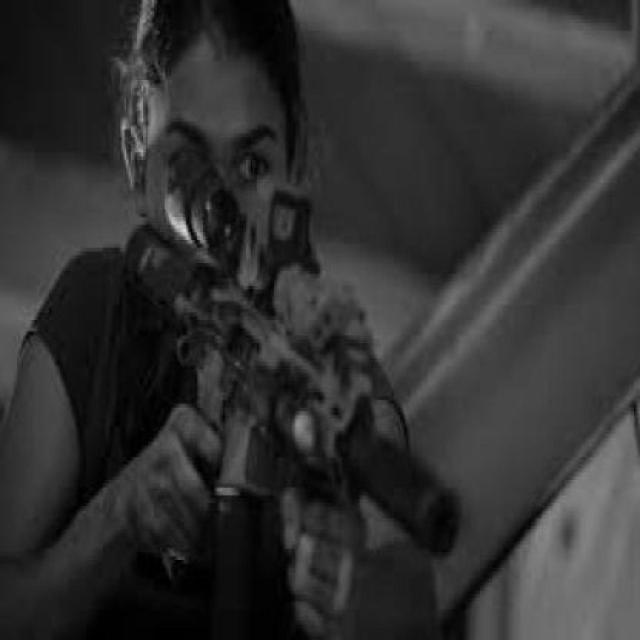weapon: (128, 147, 462, 562)
